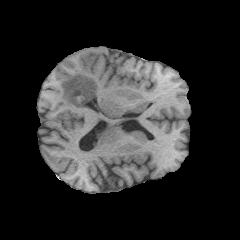glioma: (61, 56, 98, 107)
